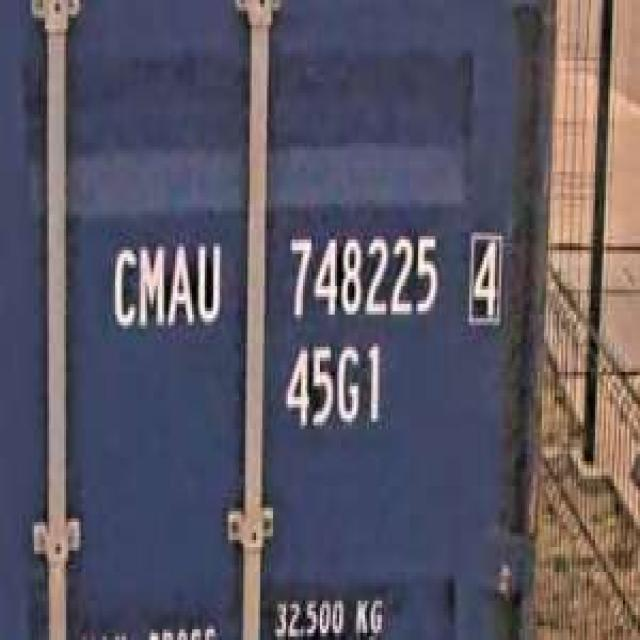dv: (460, 222, 506, 329)
owner: (105, 229, 228, 336)
serial: (279, 222, 444, 329)
size: (277, 332, 388, 440)
